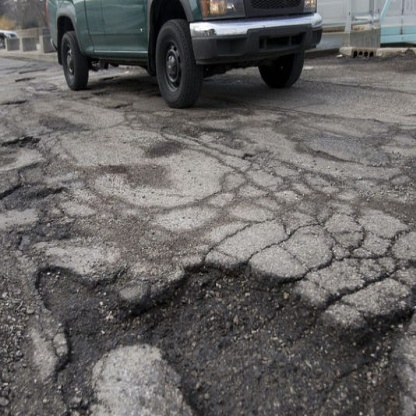pothole: (12, 244, 414, 416)
